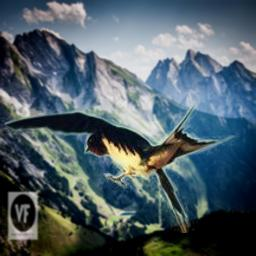Swallow: (0, 100, 256, 233)
